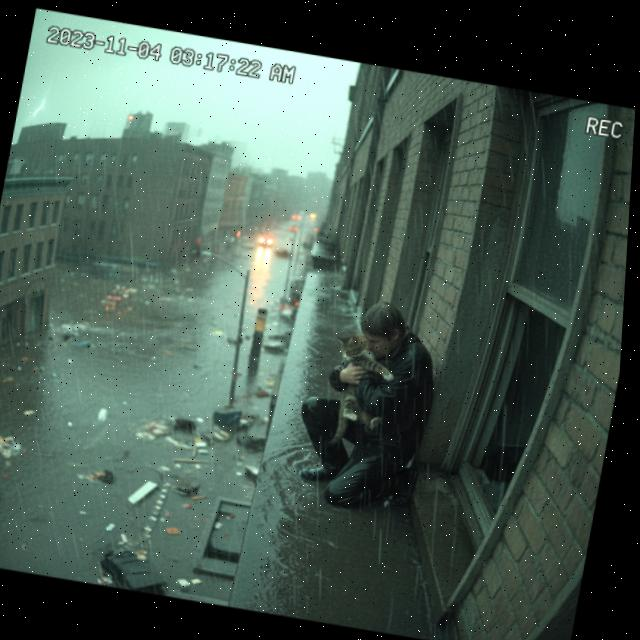cat: (312, 314, 403, 458)
civilian: (285, 284, 456, 530)
